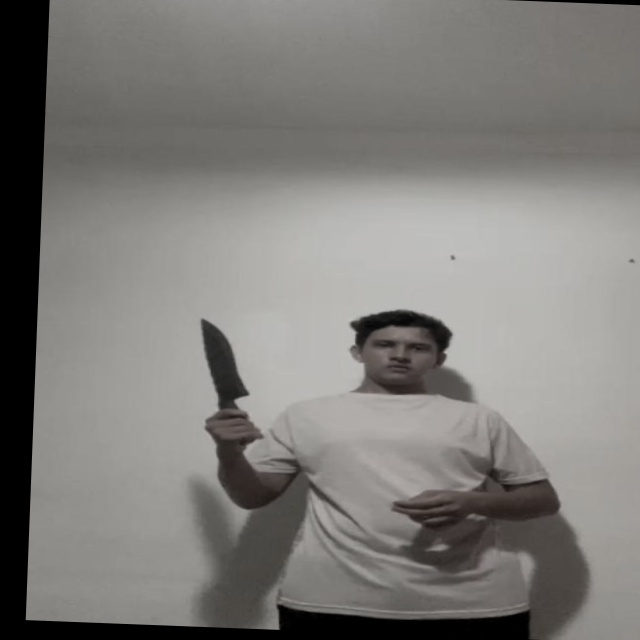Sharp-Object: (198, 319, 259, 404)
